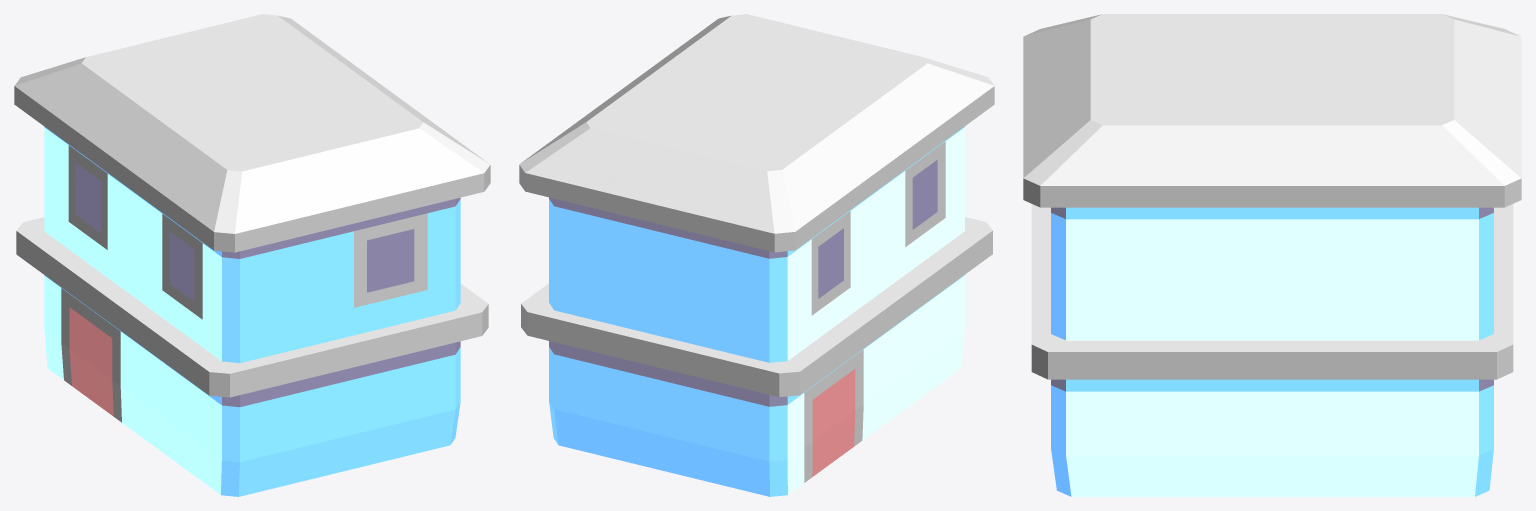
File: beach_house00.fbx
3 renders of one model, left to right at view 1: azimuth 30°, elevation 25°; view 2: azimuth 150°, elevation 25°; view 3: azimuth 270°, elevation 25°, orthographic. The views are drawn at different scales.
Parts seen in each view (by area): view 1: house_roof, house_shadows, house_base, house_windows, house_door; view 2: house_roof, house_shadows, house_base, house_windows, house_door; view 3: house_roof, house_base, house_shadows, house_windows.
Part boxes in pixels (x1,y1,x2,y2): house_roof: (14, 14, 490, 422); house_shadows: (44, 126, 460, 496); house_base: (44, 127, 221, 494); house_windows: (75, 162, 460, 407); house_door: (69, 307, 113, 416); house_roof: (519, 14, 994, 482); house_shadows: (549, 126, 964, 496); house_base: (787, 127, 964, 494); house_windows: (549, 160, 937, 406); house_door: (812, 369, 855, 476); house_roof: (1023, 14, 1521, 379); house_base: (1066, 219, 1478, 496); house_shadows: (1051, 207, 1493, 496); house_windows: (1051, 207, 1493, 391).
Bounding box in the file's own units: 4.06 × 4.31 × 5.39.
